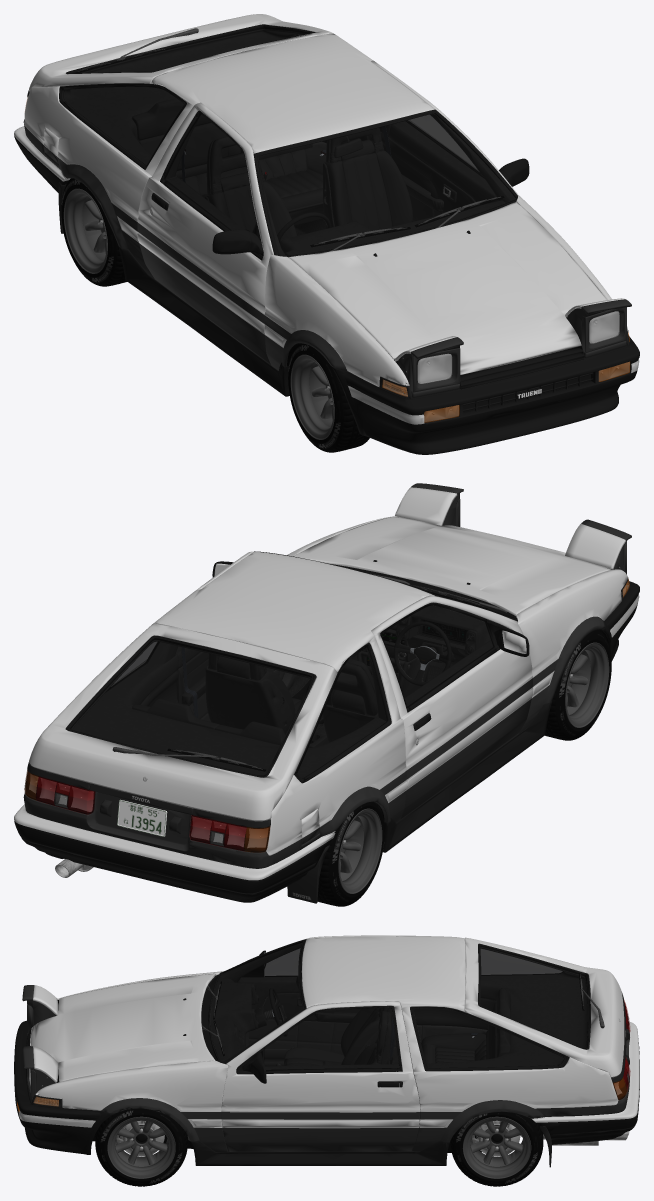
File: toyota-ae86-sprinter.glb
The picture shows the model from 3 angles, top to bottom: view 1: azimuth 30°, elevation 25°; view 2: azimuth 150°, elevation 25°; view 3: azimuth 270°, elevation 25°; orthographic projection. The views are drawn at different scales.
Parts seen in each view (by area): view 1: CarBody, Interior, Headlights, FR_Wheel, RR_Wheel; view 2: CarBody, Interior, RR_Wheel, FR_Wheel, Headlights, SteeringWheel; view 3: CarBody, Interior, FL_Wheel, RL_Wheel, Headlights, SteeringWheel.
Part boxes in pixels (x1,y1,x2,y2): CarBody: (14, 14, 639, 454); Interior: (64, 29, 515, 255); Headlights: (394, 298, 631, 397); FR_Wheel: (288, 343, 369, 452); RR_Wheel: (61, 178, 127, 286); CarBody: (14, 516, 639, 903); Interior: (71, 605, 492, 778); RR_Wheel: (317, 801, 384, 906); FR_Wheel: (545, 629, 611, 740); Headlights: (395, 483, 631, 574); SteeringWheel: (394, 621, 451, 686); CarBody: (14, 935, 639, 1167); Interior: (187, 943, 587, 1141); FL_Wheel: (95, 1108, 187, 1186); RL_Wheel: (450, 1112, 543, 1186); Headlights: (22, 985, 58, 1101); SteeringWheel: (264, 988, 287, 1036).
Bounding box in the file's own units: 192 × 128 × 421.
21 materials, 12 textured.
